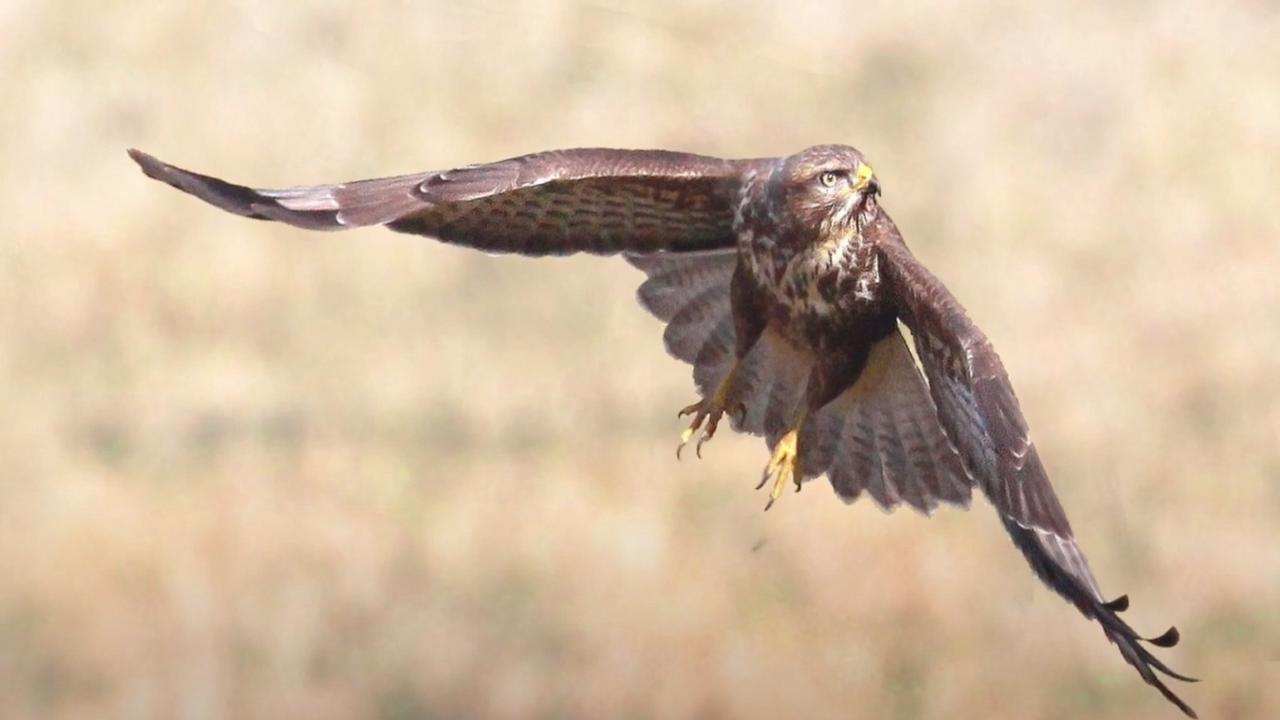Bird: (119, 124, 1204, 720)
